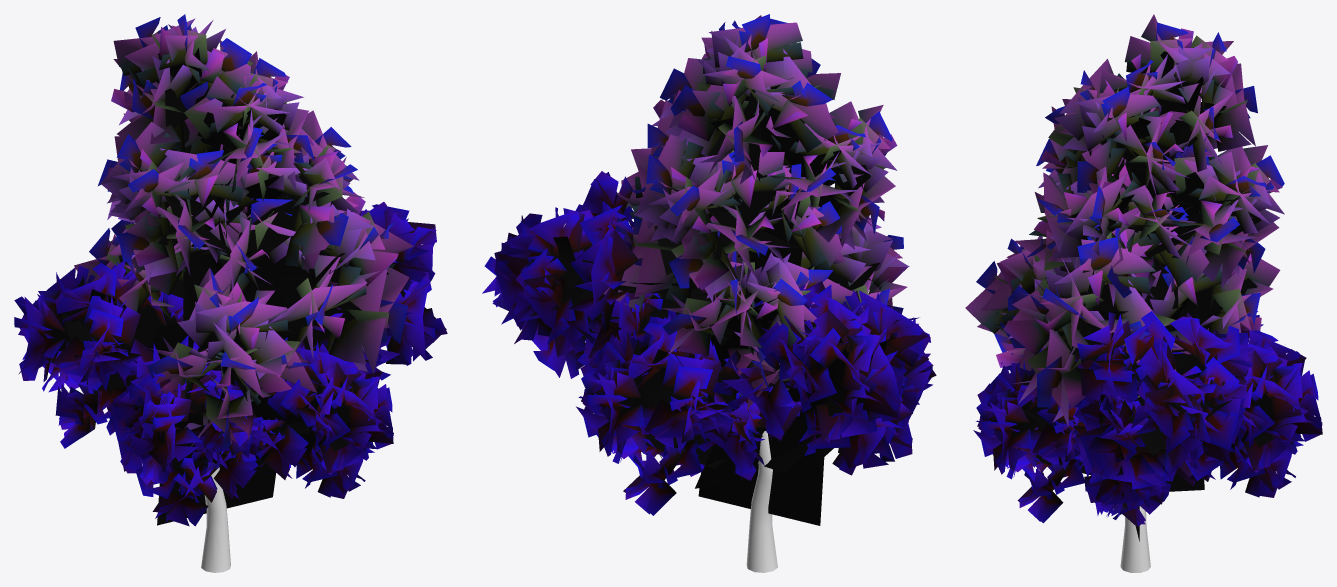
File: holm_oak_4.dae
3 renders of one model, left to right at view 1: azimuth 30°, elevation 25°; view 2: azimuth 150°, elevation 25°; view 3: azimuth 270°, elevation 25°, orthographic. The views are drawn at different scales.
Visible parts, largest first — view 1: holm_oak_2_003; view 2: holm_oak_2_003; view 3: holm_oak_2_003.
Part boxes in pixels (box(x1,y1,x2,y2)): holm_oak_2_003: box(14, 14, 447, 572); holm_oak_2_003: box(482, 14, 936, 572); holm_oak_2_003: box(965, 14, 1322, 572).
Size of the model in its own units: 10.72 by 8.33 by 13.76.
